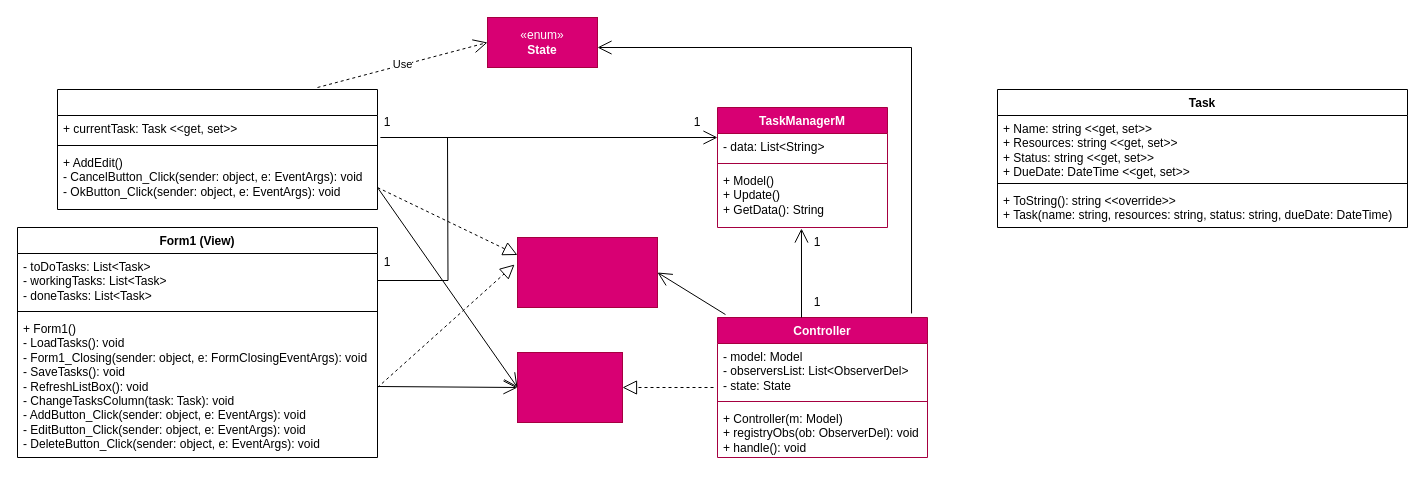
Image size: 1425x478. Some labels were removed from this diagram. The box of each missing label's shape, as (x1, y1, x2, y2) in pixels:
<<delegate>> InputHandlerDel + handle(): void: (516, 352, 622, 422)
<<delegate>> ObserverDel + update(s: State): void: (516, 236, 658, 308)
AddEdit (View2): (56, 88, 378, 210)
